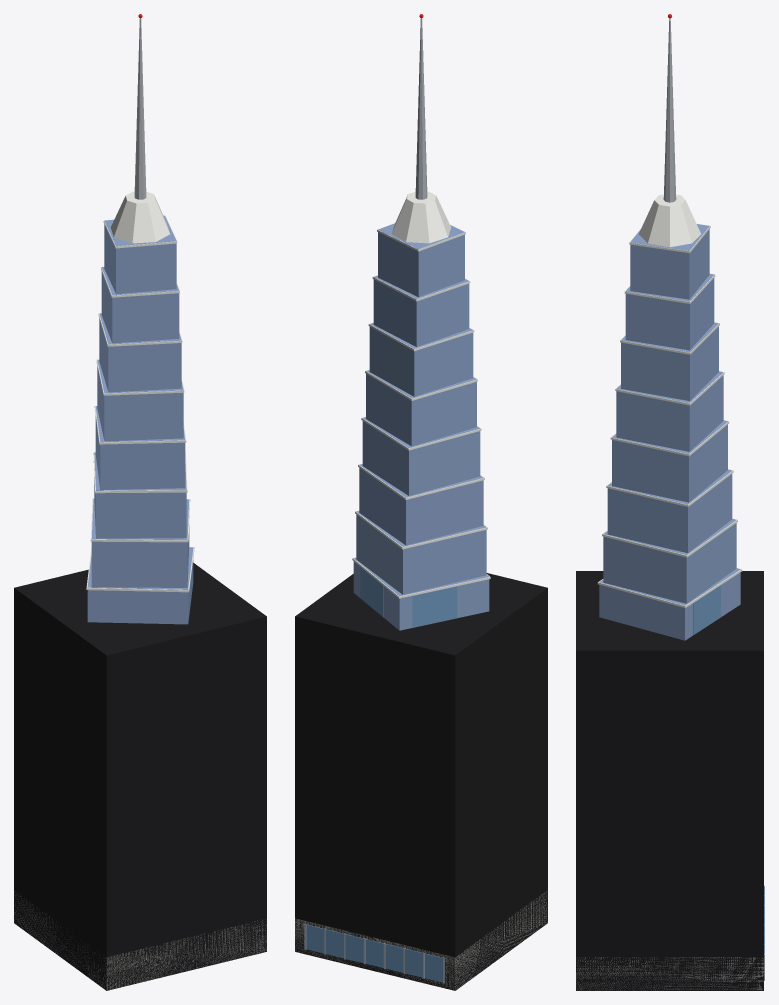
Rendered from env_lm2_merdeka118.fbx.
3 views of the same model, side by side, from view 1: azimuth 30°, elevation 25°; view 2: azimuth 150°, elevation 25°; view 3: azimuth 270°, elevation 25° (orthographic).
Parts seen in each view (by area): view 1: COL_env_lm2_merdeka118, env_lm2_merdeka118_geo_LOD0; view 2: COL_env_lm2_merdeka118, env_lm2_merdeka118_geo_LOD0; view 3: COL_env_lm2_merdeka118, env_lm2_merdeka118_geo_LOD0.
Part boxes in pixels (x1=…): COL_env_lm2_merdeka118: x1=14, y1=563, x2=266, y2=990; env_lm2_merdeka118_geo_LOD0: x1=14, y1=14, x2=266, y2=989; COL_env_lm2_merdeka118: x1=295, y1=573, x2=547, y2=990; env_lm2_merdeka118_geo_LOD0: x1=295, y1=14, x2=547, y2=990; COL_env_lm2_merdeka118: x1=576, y1=571, x2=763, y2=990; env_lm2_merdeka118_geo_LOD0: x1=576, y1=14, x2=764, y2=990.
Size of what is drawn, in the model's own units: 30 by 165 by 30.16.
